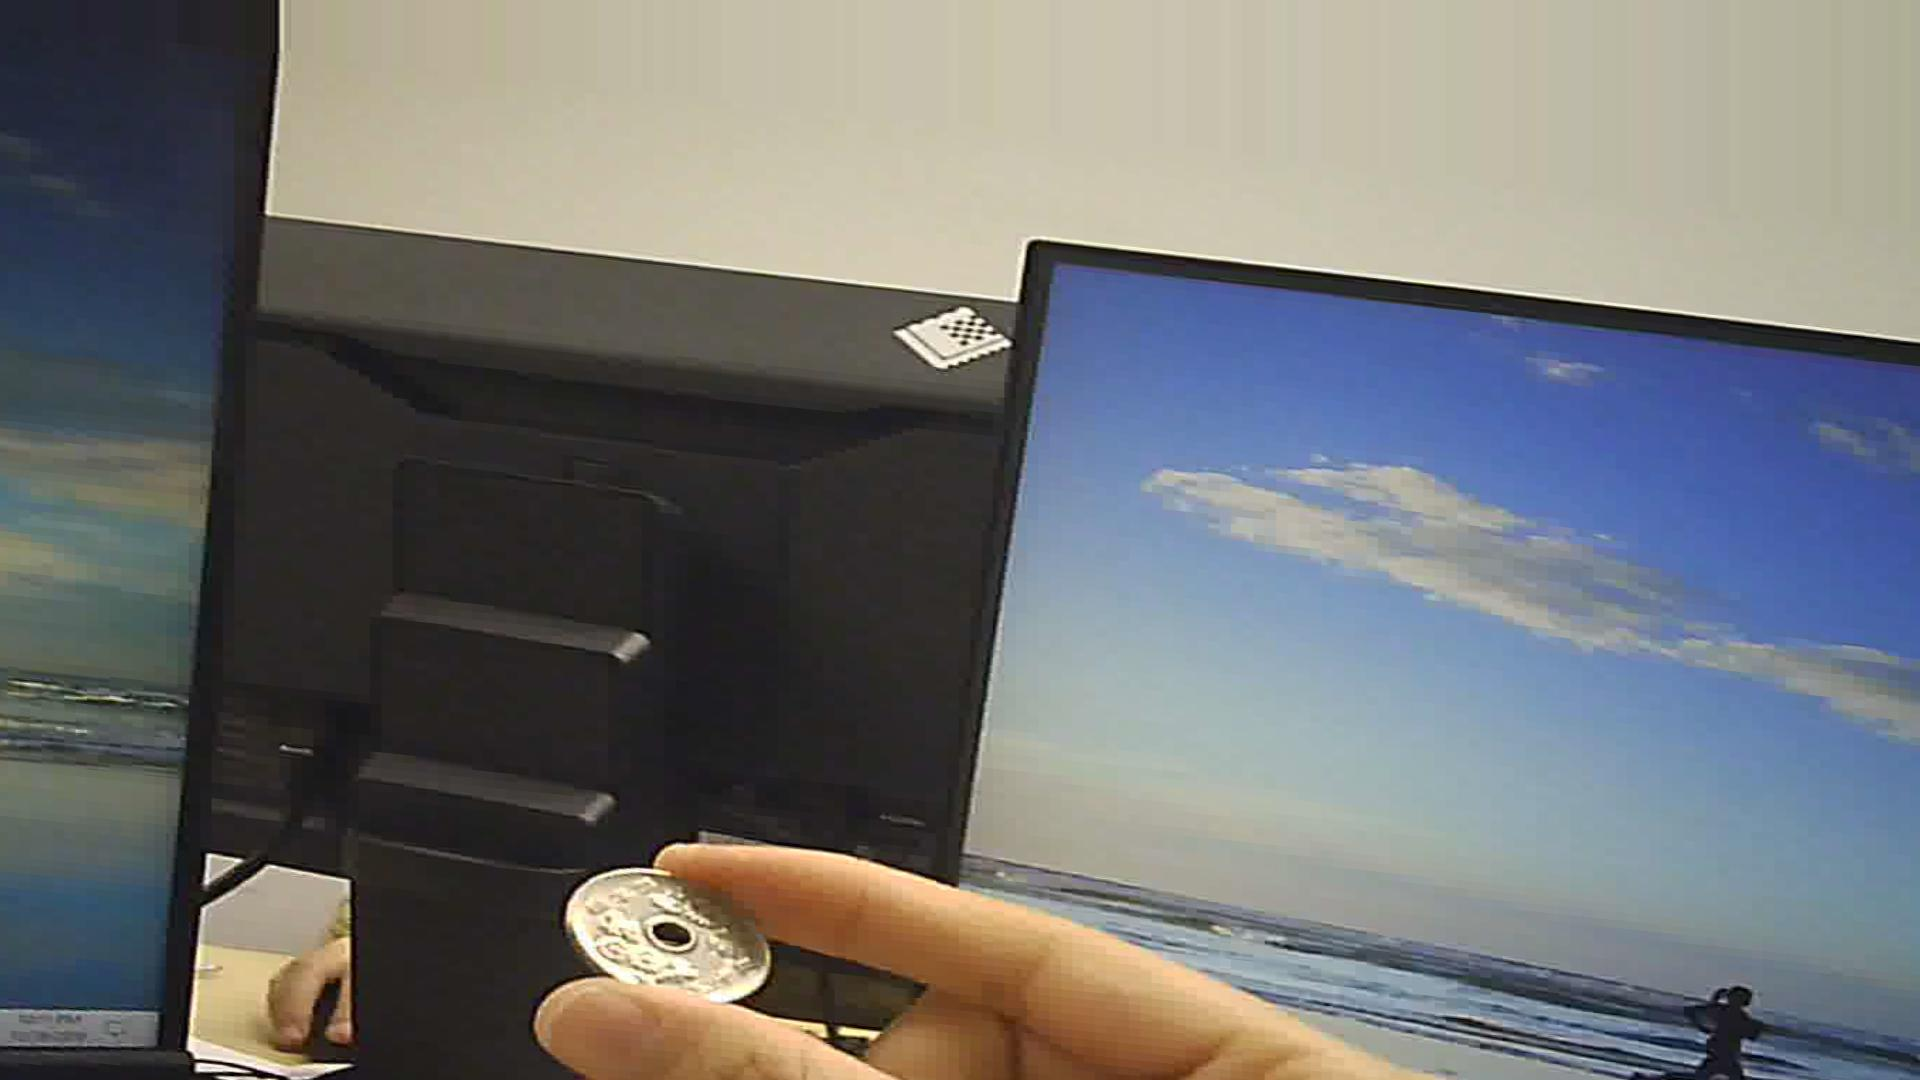50 Yen: (553, 848, 779, 1005)
